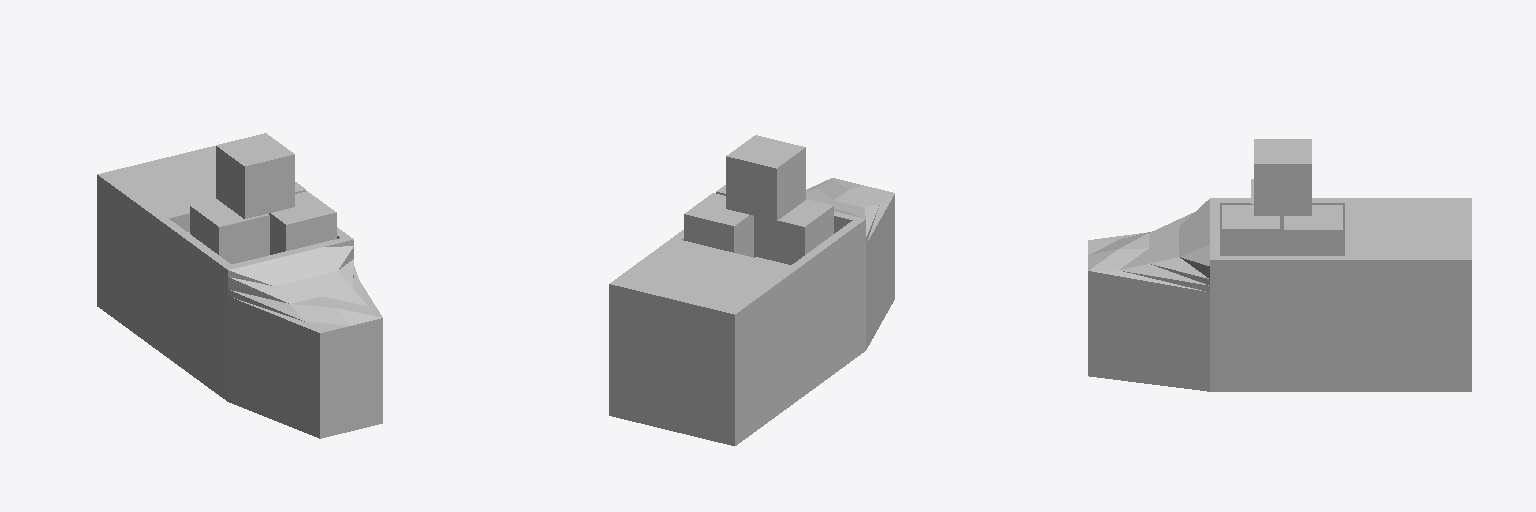
The model's file is train_2.obj.
The picture shows the model from 3 angles: view 1: azimuth 30°, elevation 25°; view 2: azimuth 150°, elevation 25°; view 3: azimuth 270°, elevation 25°; orthographic projection.
Parts seen in each view (by area): view 1: Cube.005, Cube.006, Cube.004, Cube.014_Cube.015, Cube.012_Cube.013, Cube.013_Cube.014; view 2: Cube.006, Cube.004, Cube.014_Cube.015, Cube.005, Cube.012_Cube.013, Cube.011_Cube.012; view 3: Cube.006, Cube.004, Cube.005, Cube.014_Cube.015, Cube.011_Cube.012, Cube.013_Cube.014.
Boxes of the visible parts, x1,y1,x2,y2 form: Cube.005: [228, 240, 382, 438]; Cube.006: [97, 146, 216, 347]; Cube.004: [155, 209, 353, 401]; Cube.014_Cube.015: [216, 133, 294, 218]; Cube.012_Cube.013: [190, 199, 269, 263]; Cube.013_Cube.014: [269, 191, 336, 254]; Cube.006: [609, 241, 792, 445]; Cube.004: [668, 211, 865, 403]; Cube.014_Cube.015: [726, 135, 805, 220]; Cube.005: [806, 178, 894, 349]; Cube.012_Cube.013: [754, 199, 833, 264]; Cube.011_Cube.012: [684, 193, 753, 257]; Cube.006: [1355, 198, 1471, 391]; Cube.004: [1210, 198, 1354, 391]; Cube.005: [1088, 199, 1209, 391]; Cube.014_Cube.015: [1254, 139, 1311, 215]; Cube.011_Cube.012: [1284, 205, 1342, 255]; Cube.013_Cube.014: [1222, 205, 1279, 255].
Size of the model in its own units: 2.5 by 3.98 by 6.59.